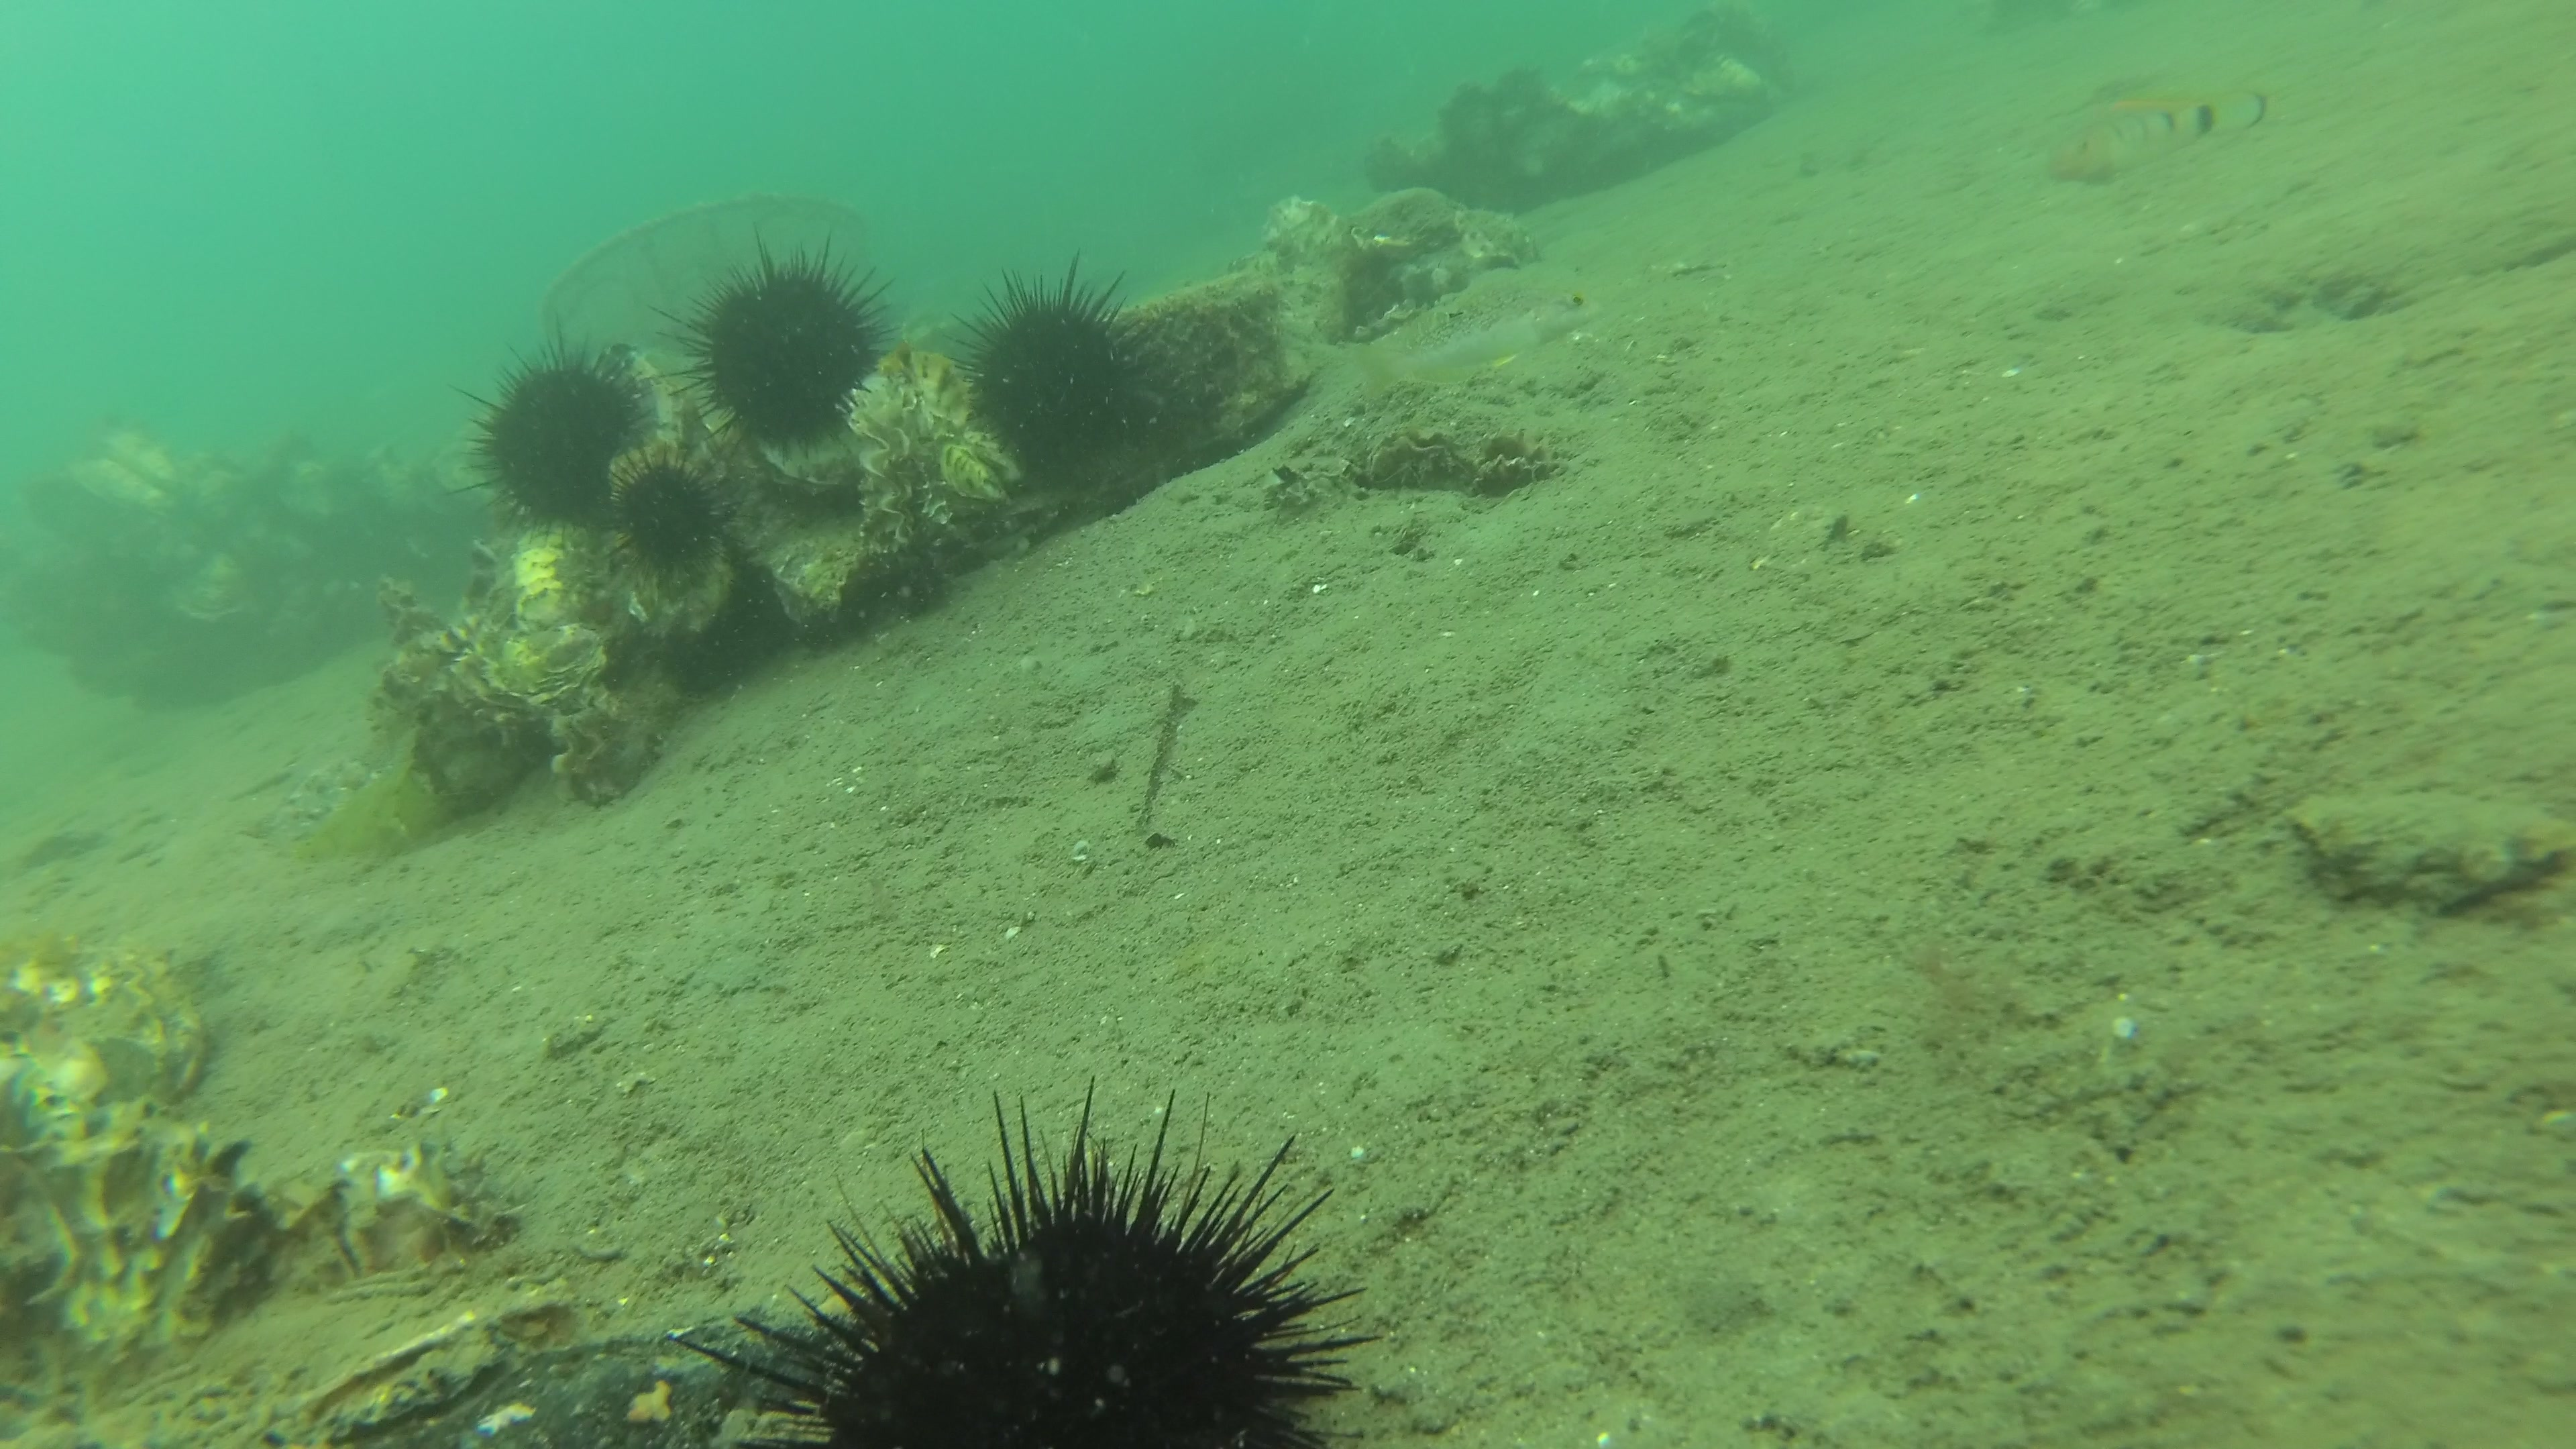echinus: (672, 1069, 1389, 1449), (655, 219, 904, 467), (444, 308, 655, 548), (941, 246, 1164, 472), (596, 444, 740, 591)
